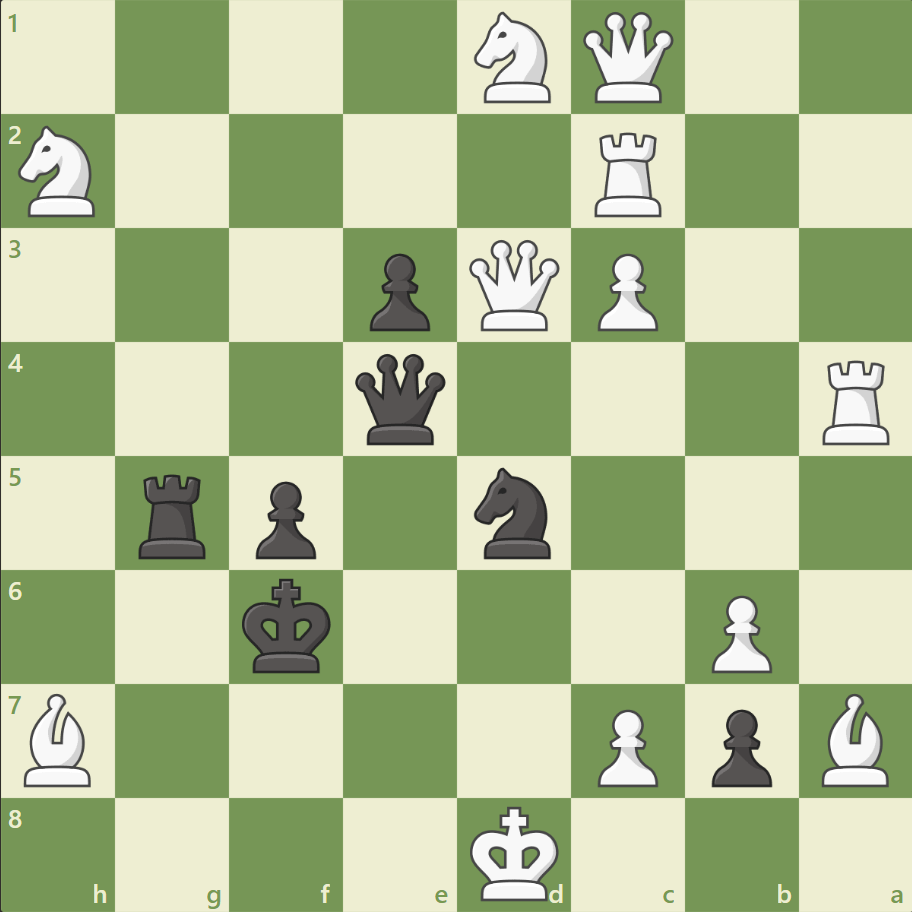B: (812, 687, 896, 790), (17, 687, 101, 790)
K: (465, 798, 565, 906)
N: (465, 7, 562, 110), (11, 121, 108, 223)
P: (701, 586, 776, 677), (588, 700, 662, 791), (588, 246, 662, 337)
Q: (464, 236, 563, 335), (578, 9, 677, 108)
R: (814, 352, 897, 449), (587, 125, 670, 222)
k: (238, 571, 338, 679)
n: (465, 461, 562, 564)
p: (701, 700, 776, 791), (247, 473, 322, 564), (361, 246, 435, 337)
q: (351, 349, 450, 449)
r: (133, 466, 215, 563)
